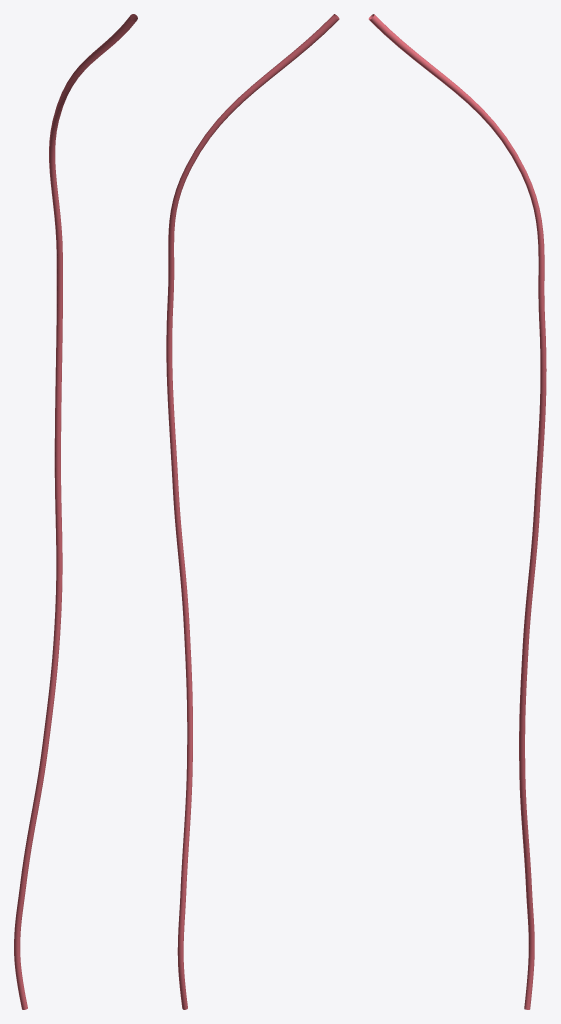
3 views of the same model, side by side, from view 1: azimuth 90°, elevation 25°; view 2: azimuth 150°, elevation 25°; view 3: azimuth 330°, elevation 25° (orthographic). The views are drawn at different scales.
Parts seen in each view (by area): view 1: ZA_ebd0224069eaff62; view 2: ZA_ebd0224069eaff62; view 3: ZA_ebd0224069eaff62.
Part boxes in pixels (bbox=[...]): ZA_ebd0224069eaff62: bbox=[14, 14, 137, 1009]; ZA_ebd0224069eaff62: bbox=[166, 14, 339, 1009]; ZA_ebd0224069eaff62: bbox=[368, 14, 546, 1009].
Bounding box in the file's own units: 0.0487 × 0.3315 × 0.0356.
